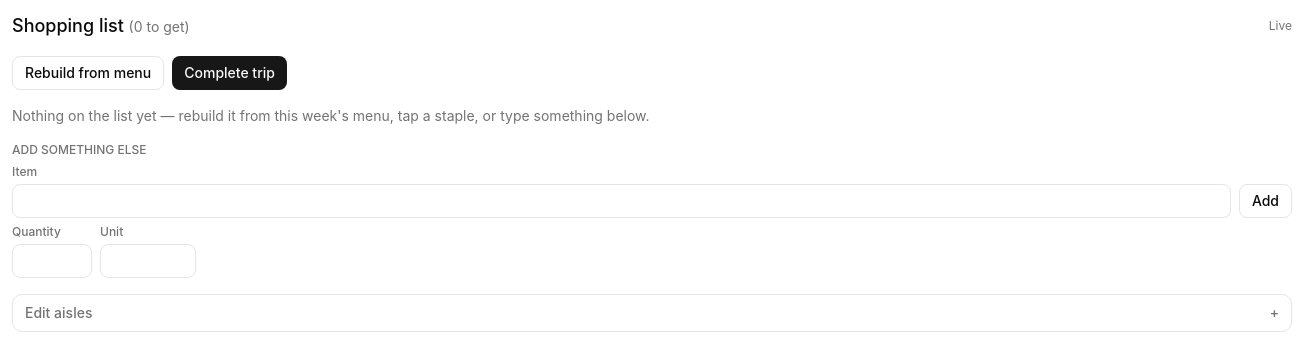
GroceryList — add something else › picks a highlighted staple on Enter, prefilling its unit, without submitting
Type "mil" into the dropdown labelled "Item".
click(621, 201); type("mil")  # box [12, 184, 1231, 218]
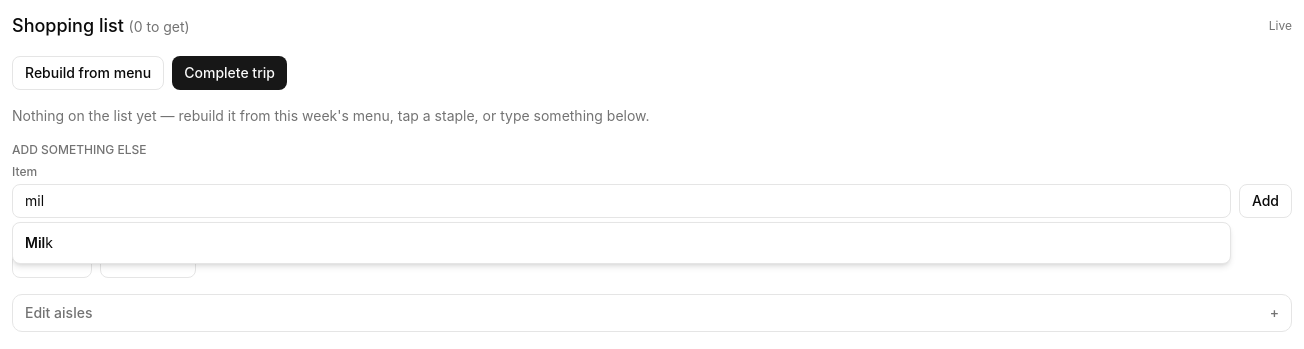
Press ArrowDown in the dropdown labelled "Item", box [12, 184, 1231, 218]
Press Enter in the dropdown labelled "Item", box [12, 184, 1231, 218]
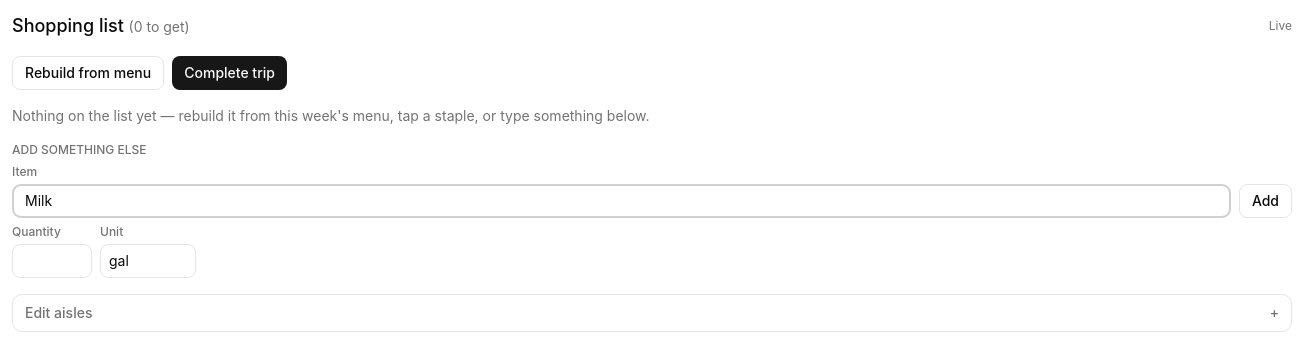
Expected: the dropdown labelled "Item" holds "Milk", [12, 184, 1231, 218]
Expected: the field labelled "Unit" holds "gal", [100, 244, 196, 278]
